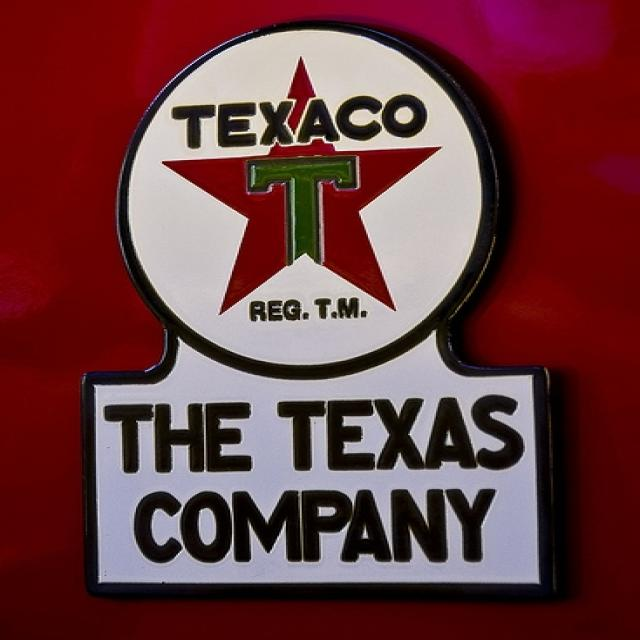texaco: (123, 24, 489, 366)
